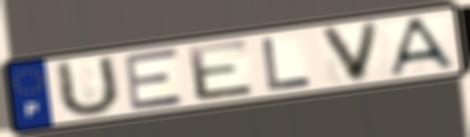A: (385, 15, 460, 79)
E: (184, 37, 259, 103), (121, 46, 188, 113)
L: (258, 35, 315, 92)
U: (55, 53, 123, 121)
V: (316, 19, 384, 85)
